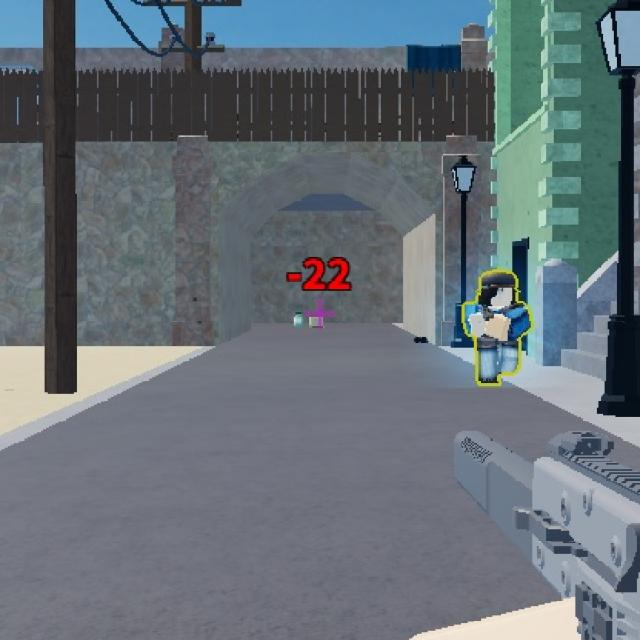player: (466, 266, 536, 385)
